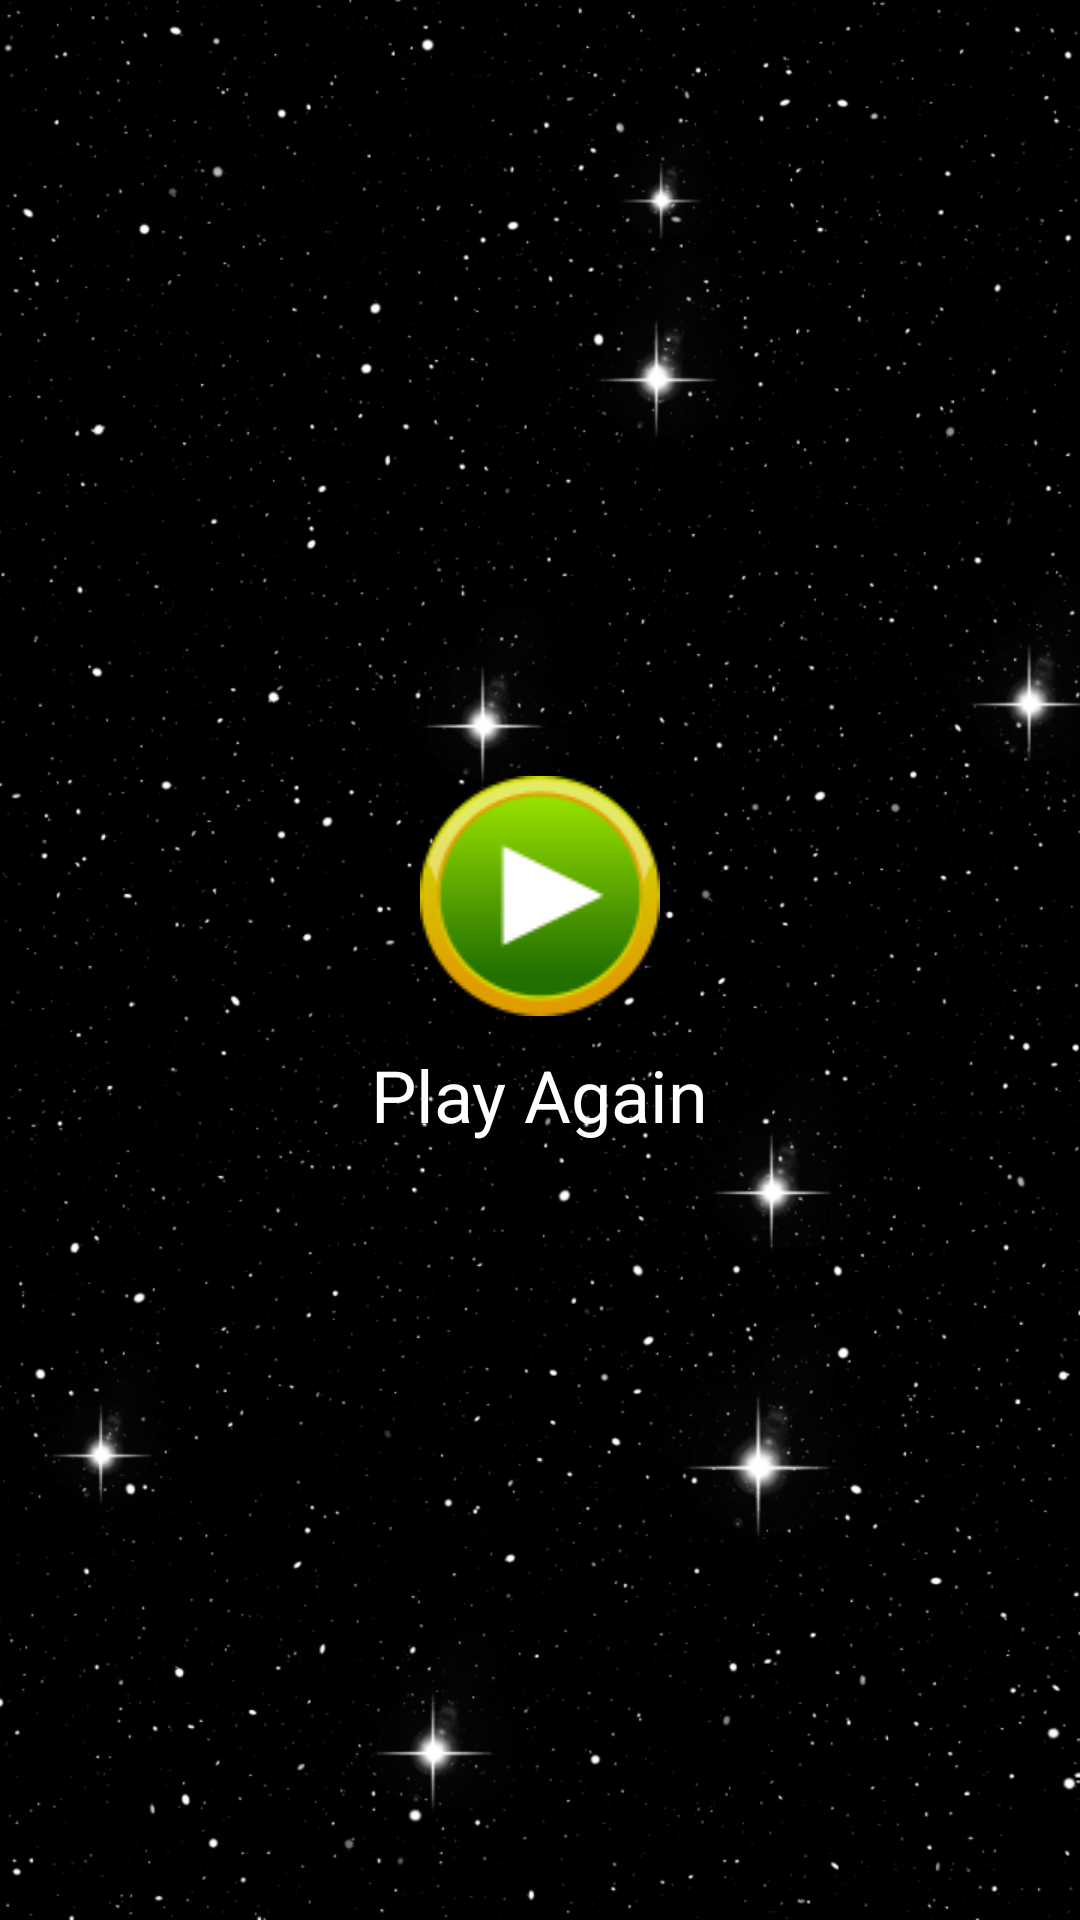

Icons on this 1080w x 1920h Android screen, each with its box as {"left": x1, "top": y1, "right": x2, "bottom": y2}:
start: {"left": 420, "top": 776, "right": 660, "bottom": 1016}
